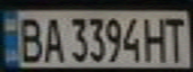3: (66, 14, 90, 63), (84, 14, 106, 63)
4: (121, 15, 145, 63)
9: (103, 15, 124, 63)
A: (39, 13, 66, 64)
B: (12, 14, 45, 63)
H: (142, 14, 172, 63)
T: (163, 14, 190, 63)
